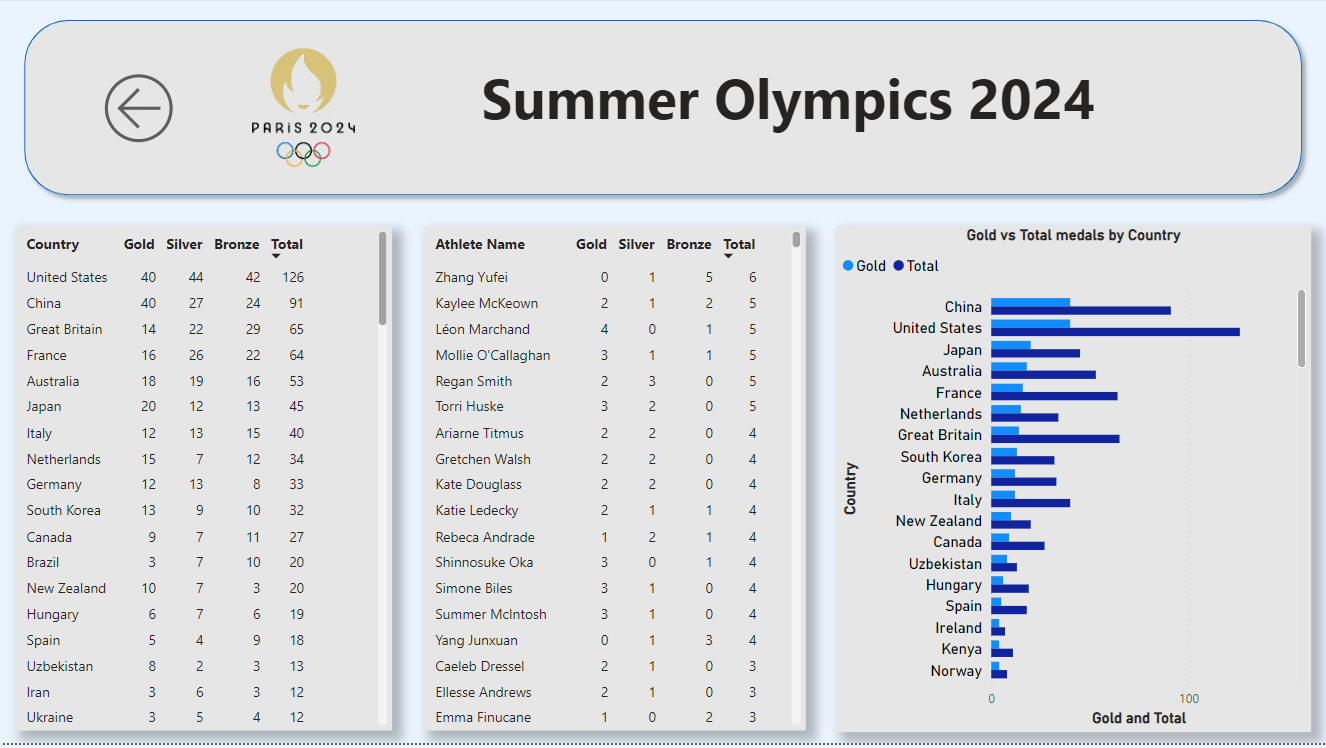

Layout of this report page (visuals, bound fields, positions):
{"tool":"powerbi","page":{"name":"Summer Olympics 2024","canvas":[1280,720],"ordinal":1},"visuals":[{"type":"shape","box":[14.5,13.3,1251.1,187],"z":0},{"type":"textbox","box":[459.7,55.5,774.5,80.8],"z":1000},{"type":"image","box":[176.1,44.6,232.8,124.3],"z":2000},{"type":"tableEx","fields":{"Values":["unique_countries.Country","Sum(medals_by_country.Gold_medals)","Sum(medals_by_country.Silver_medals)","Sum(medals_by_country.Bronze_medals)","Sum(medals_by_country.Total_medals)"]},"box":[14.5,220.8,364.3,487.4],"z":3000},{"type":"tableEx","fields":{"Values":["medals_by_athlete.Athlete Name","Sum(medals_by_athlete.Gold_medals)","Sum(medals_by_athlete.Silver_medals)","Sum(medals_by_athlete.Bronze_medals)","Sum(medals_by_athlete.Total_medals)"]},"box":[409,220.8,369.2,487.4],"z":4000},{"type":"clusteredBarChart","title":"Gold vs Total medals by Country","fields":{"Y":["Sum(medals_by_country.Gold_medals)","Sum(medals_by_country.Total_medals)"],"Category":["unique_countries.Country"]},"box":[807.1,220.8,458.4,488.6],"z":5000},{"type":"actionButton","box":[92.9,66.4,83.2,82],"z":6000}]}

Visuals, with their boxes in screenshot pixels (x1, y1, x2, y2), scaled from the page's 1280x720 canvas onto the 1326x748 screenshot:
shape: x1=15 y1=14 x2=1311 y2=208
textbox: x1=476 y1=58 x2=1279 y2=142
image: x1=182 y1=46 x2=424 y2=175
tableEx - unique_countries.Country x Sum(medals_by_country.Gold_medals): x1=15 y1=229 x2=392 y2=736
tableEx - medals_by_athlete.Athlete Name x Sum(medals_by_athlete.Gold_medals): x1=424 y1=229 x2=806 y2=736
"Gold vs Total medals by Country" clusteredBarChart: x1=836 y1=229 x2=1311 y2=737
actionButton: x1=96 y1=69 x2=182 y2=154
